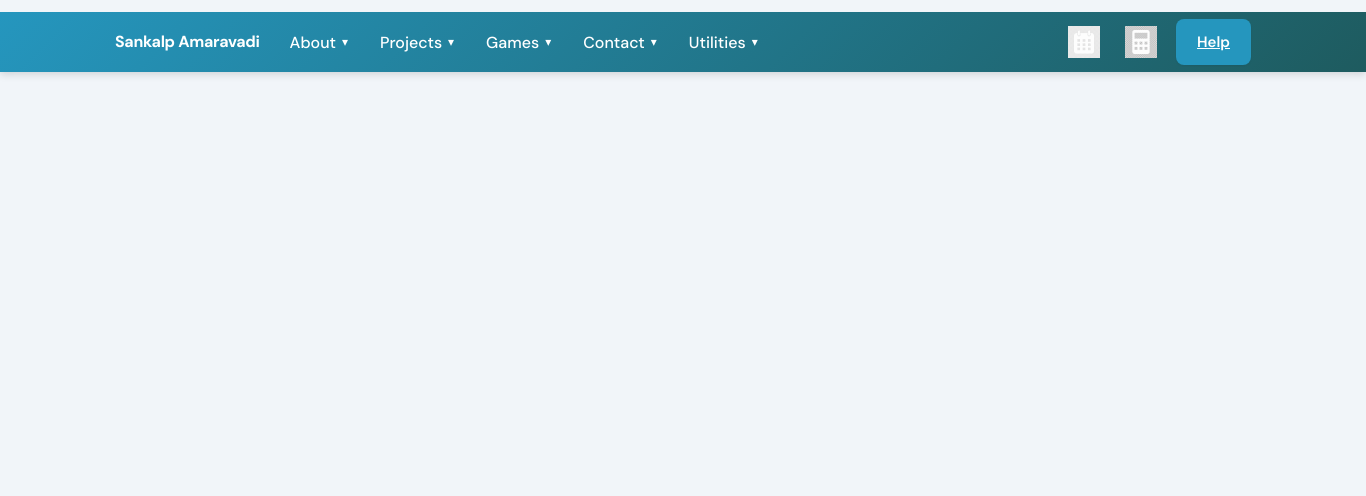
Navbar › opens calculator dropdown pad from the icon button
Click the button named "calculator": (1142, 42) [1119, 19, 1164, 65]
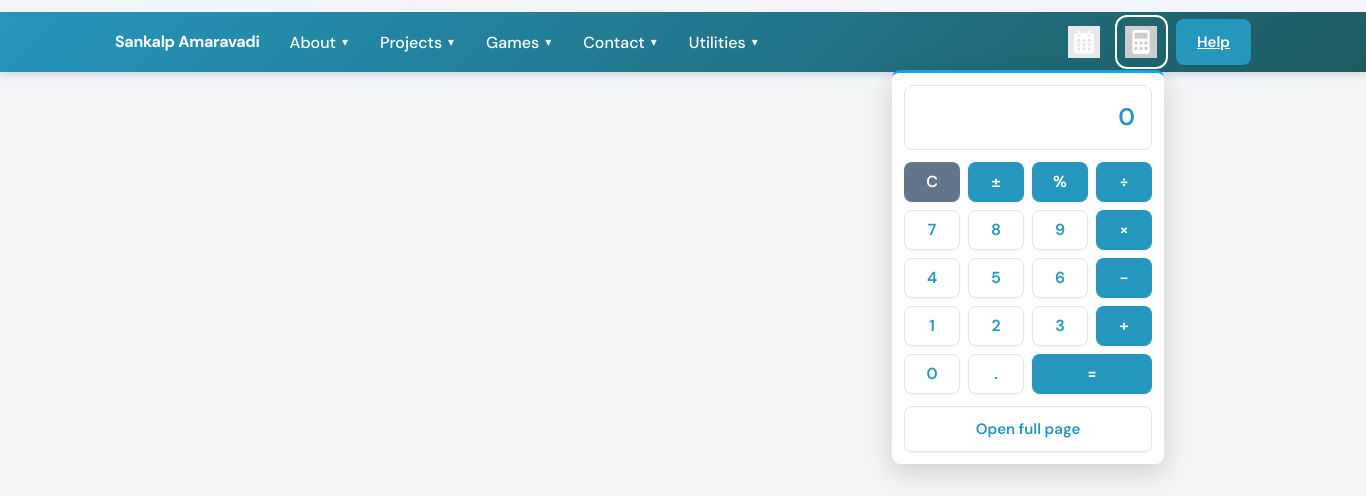
Expected: the element named "calculator keypad" is shown, [904, 162, 1152, 394]
